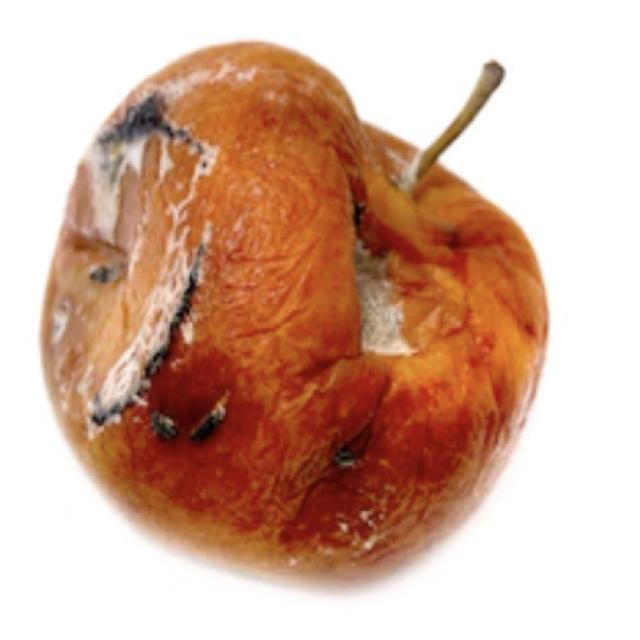Rotten: (30, 37, 548, 595)
